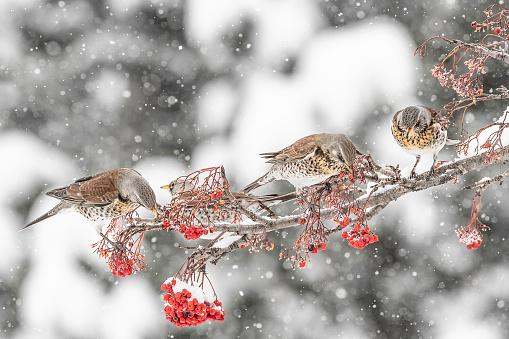bird: (26, 168, 159, 234), (238, 133, 365, 194), (391, 106, 446, 176), (163, 177, 192, 197)
